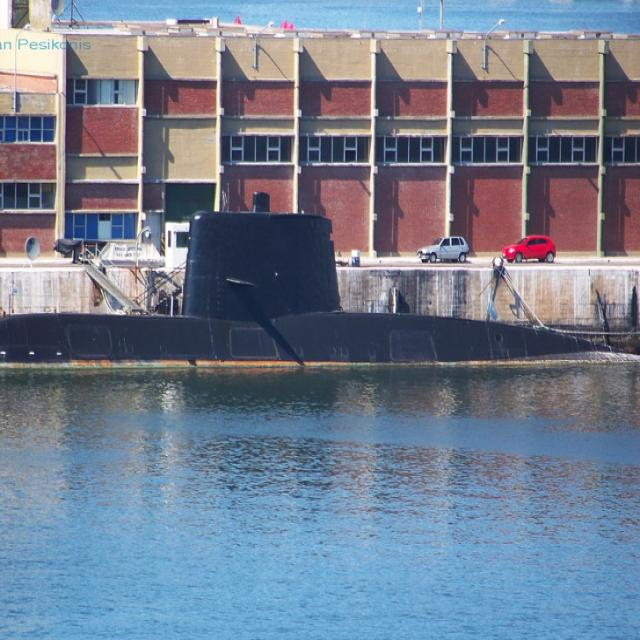submarine: (1, 211, 634, 358)
